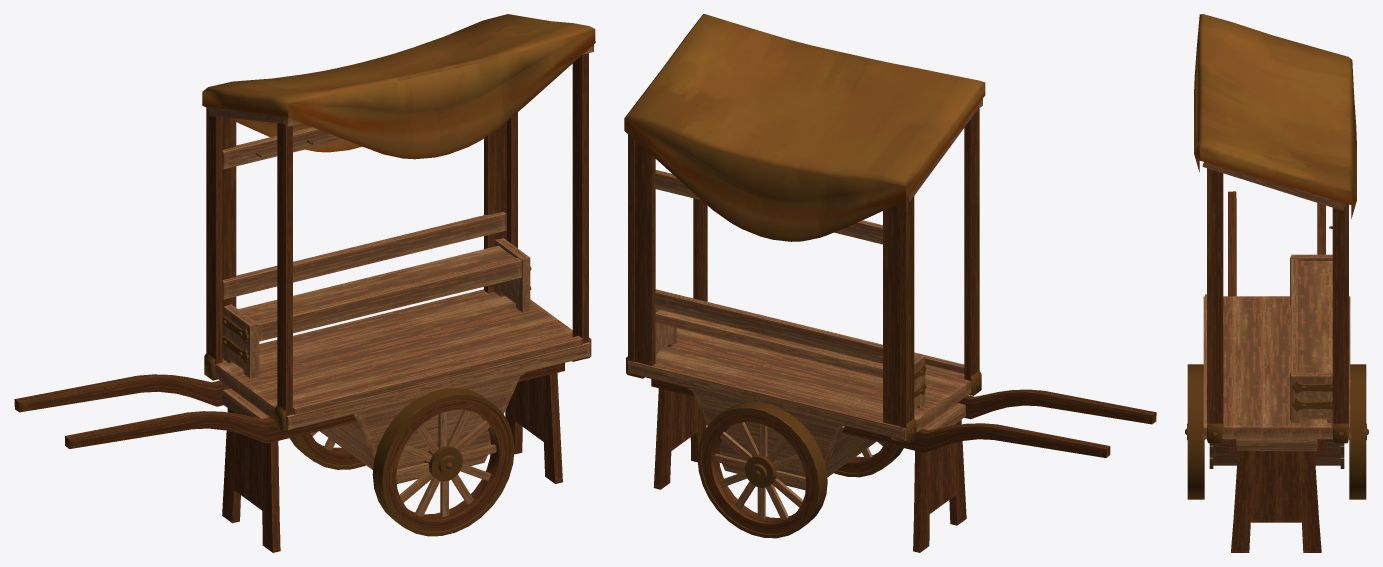
The model's file is Stall_Cart_Empty.gltf.
3 views of the same model, side by side, from view 1: azimuth 30°, elevation 25°; view 2: azimuth 150°, elevation 25°; view 3: azimuth 270°, elevation 25° (orthographic). The views are drawn at different scales.
Parts seen in each view (by area): view 1: Stall_Cart_Empty; view 2: Stall_Cart_Empty; view 3: Stall_Cart_Empty.
Boxes of the visible parts, box(x1,y1,x2,y2) form: Stall_Cart_Empty: box(14, 14, 595, 552); Stall_Cart_Empty: box(624, 14, 1156, 552); Stall_Cart_Empty: box(1185, 14, 1368, 552).
Size of the model in its own units: 3.02 by 2.63 by 1.06.
3 materials, 3 textured.
